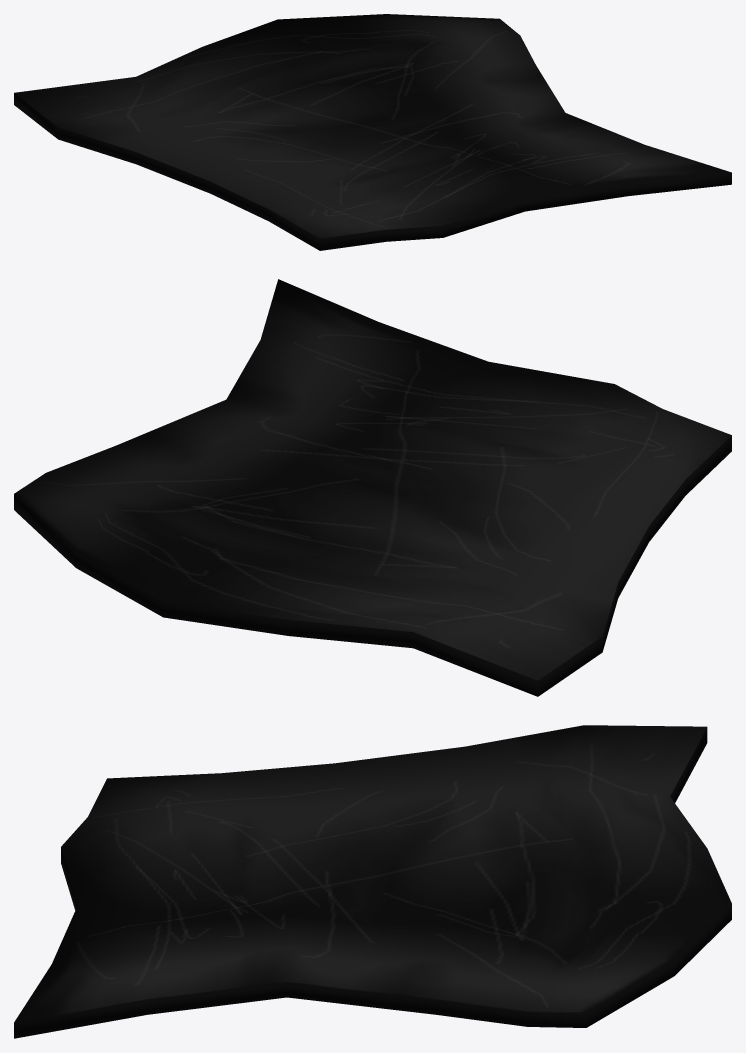
The model's file is holed_plate.fbx.
3 renders of one model, top to bottom at view 1: azimuth 30°, elevation 25°; view 2: azimuth 150°, elevation 25°; view 3: azimuth 270°, elevation 25°, orthographic. The views are drawn at different scales.
Visible parts, largest first — view 1: holed_plate; view 2: holed_plate; view 3: holed_plate.
Part boxes in pixels (bbox=[...]): holed_plate: bbox=[14, 14, 731, 250]; holed_plate: bbox=[14, 279, 731, 696]; holed_plate: bbox=[14, 725, 731, 1038].
Bounding box in the file's own units: 542 × 13.72 × 553.
1 material, 1 textured.
